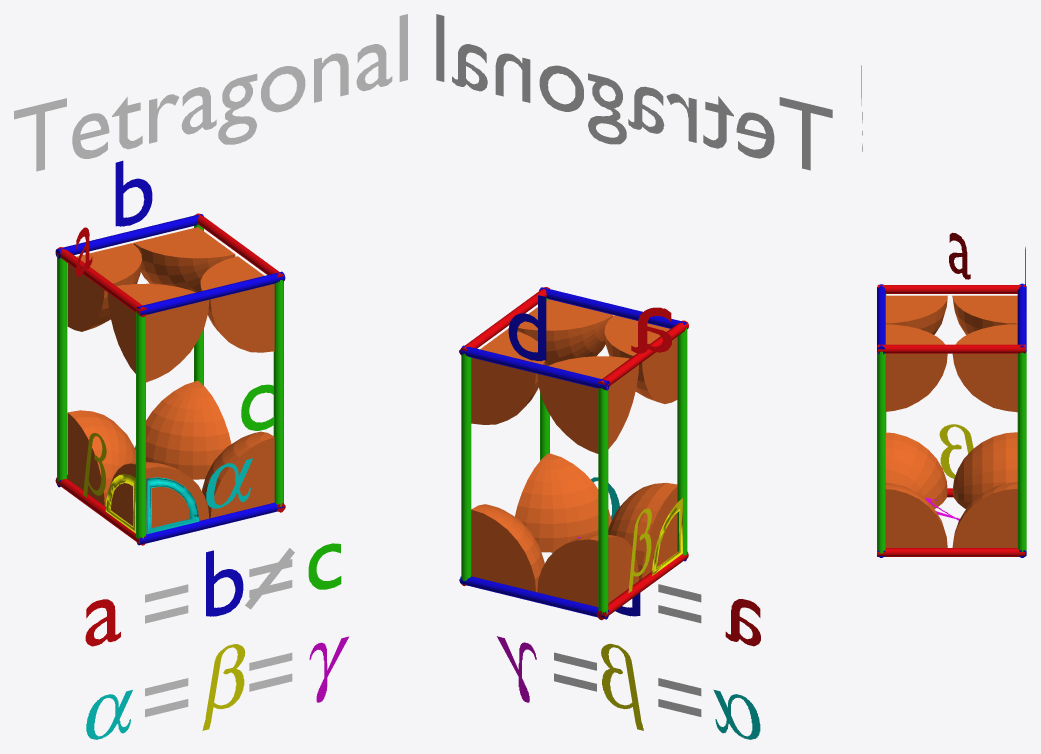
The model's file is tetragonal.obj.glb.
The picture shows the model from 3 angles, left to right: view 1: azimuth 30°, elevation 25°; view 2: azimuth 150°, elevation 25°; view 3: azimuth 270°, elevation 25°; orthographic projection. The views are drawn at different scales.
Parts seen in each view (by area): view 1: Text.130_Text.085, Sphere.025_Sphere.041, Sphere.020_Sphere.036, Sphere.022_Sphere.038, Sphere.021_Sphere.037, Sphere.026_Sphere.042, Sphere.023_Sphere.039, Sphere.024_Sphere.040, Sphere.019_Sphere.035, Cylinder.033_Cylinder.043, Cylinder.027_Cylinder.037, Cylinder.035_Cylinder.045 (+21 smaller); view 2: Text.130_Text.085, Sphere.021_Sphere.037, Sphere.024_Sphere.040, Sphere.025_Sphere.041, Sphere.023_Sphere.039, Sphere.026_Sphere.042, Sphere.019_Sphere.035, Sphere.022_Sphere.038, Sphere.020_Sphere.036, Cylinder.030_Cylinder.040, Cylinder.033_Cylinder.043, Cylinder.035_Cylinder.045 (+16 smaller); view 3: Sphere.026_Sphere.042, Sphere.022_Sphere.038, Sphere.025_Sphere.041, Sphere.021_Sphere.037, Sphere.023_Sphere.039, Sphere.019_Sphere.035, Sphere.024_Sphere.040, Sphere.020_Sphere.036, Cylinder.030_Cylinder.040, Cylinder.027_Cylinder.037, Cylinder.029_Cylinder.039, Cylinder.028_Cylinder.038 (+5 smaller).
Boxes of the visible parts, bbox=[...] form: Text.130_Text.085: bbox=[14, 14, 407, 171]; Sphere.025_Sphere.041: bbox=[135, 380, 231, 479]; Sphere.020_Sphere.036: bbox=[107, 283, 209, 382]; Sphere.022_Sphere.038: bbox=[200, 256, 274, 352]; Sphere.021_Sphere.037: bbox=[202, 431, 274, 517]; Sphere.026_Sphere.042: bbox=[133, 227, 235, 292]; Sphere.023_Sphere.039: bbox=[67, 410, 135, 506]; Sphere.024_Sphere.040: bbox=[67, 243, 141, 331]; Sphere.019_Sphere.035: bbox=[110, 462, 209, 533]; Cylinder.033_Cylinder.043: bbox=[57, 254, 67, 481]; Cylinder.027_Cylinder.037: bbox=[273, 280, 283, 506]; Cylinder.035_Cylinder.045: bbox=[136, 311, 145, 538]; Text.130_Text.085: bbox=[436, 14, 832, 170]; Sphere.021_Sphere.037: bbox=[515, 453, 611, 552]; Sphere.024_Sphere.040: bbox=[537, 356, 638, 453]; Sphere.025_Sphere.041: bbox=[471, 504, 544, 592]; Sphere.023_Sphere.039: bbox=[537, 534, 639, 606]; Sphere.026_Sphere.042: bbox=[471, 328, 545, 424]; Sphere.019_Sphere.035: bbox=[608, 482, 677, 579]; Sphere.022_Sphere.038: bbox=[517, 299, 613, 365]; Sphere.020_Sphere.036: bbox=[604, 315, 677, 403]; Cylinder.030_Cylinder.040: bbox=[461, 353, 471, 581]; Cylinder.033_Cylinder.043: bbox=[598, 387, 608, 614]; Cylinder.035_Cylinder.045: bbox=[677, 328, 687, 555]; Sphere.026_Sphere.042: bbox=[952, 324, 1017, 412]; Sphere.022_Sphere.038: bbox=[885, 324, 947, 411]; Sphere.025_Sphere.041: bbox=[952, 482, 1017, 547]; Sphere.021_Sphere.037: bbox=[885, 482, 947, 547]; Sphere.023_Sphere.039: bbox=[952, 432, 1017, 508]; Sphere.019_Sphere.035: bbox=[885, 432, 947, 508]; Sphere.024_Sphere.040: bbox=[952, 295, 1017, 334]; Sphere.020_Sphere.036: bbox=[885, 295, 947, 334]; Cylinder.030_Cylinder.040: bbox=[1017, 352, 1026, 551]; Cylinder.027_Cylinder.037: bbox=[877, 351, 885, 553]; Cylinder.029_Cylinder.039: bbox=[877, 344, 1025, 353]; Cylinder.028_Cylinder.038: bbox=[877, 548, 1025, 556].
Size of the model in its own units: 1.46 by 2.36 by 0.596.
